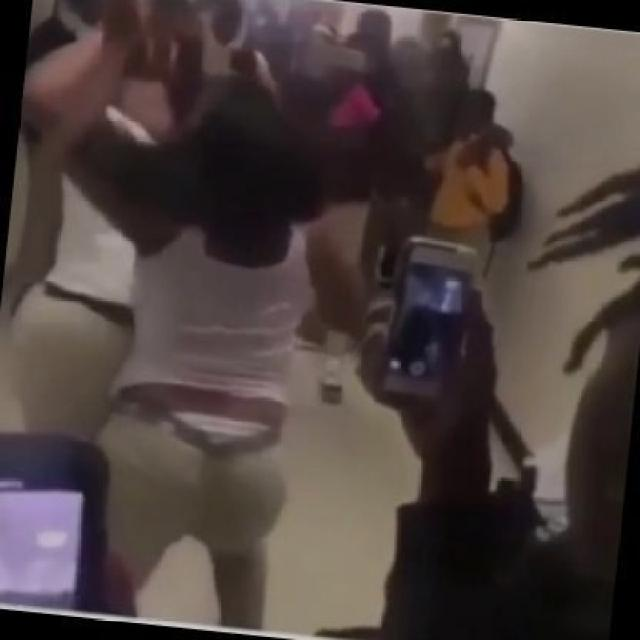fight: (6, 0, 330, 638)
